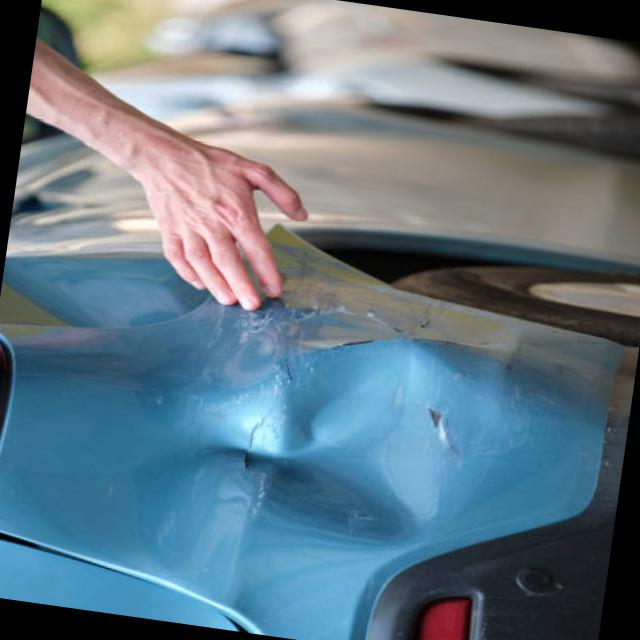Dent: (138, 322, 504, 556), (39, 224, 541, 388)
Scratch: (63, 302, 485, 460), (239, 277, 405, 348), (367, 286, 525, 349), (243, 450, 288, 520), (232, 477, 294, 519), (349, 491, 384, 536), (430, 407, 457, 454)
